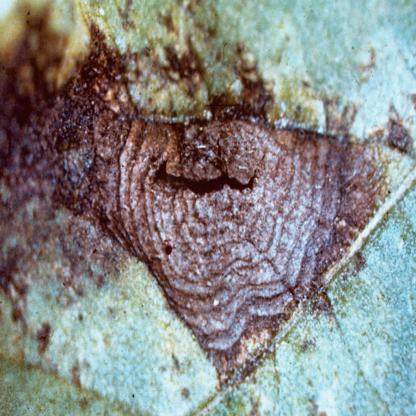Potato leaf early blight: (1, 2, 416, 410)
